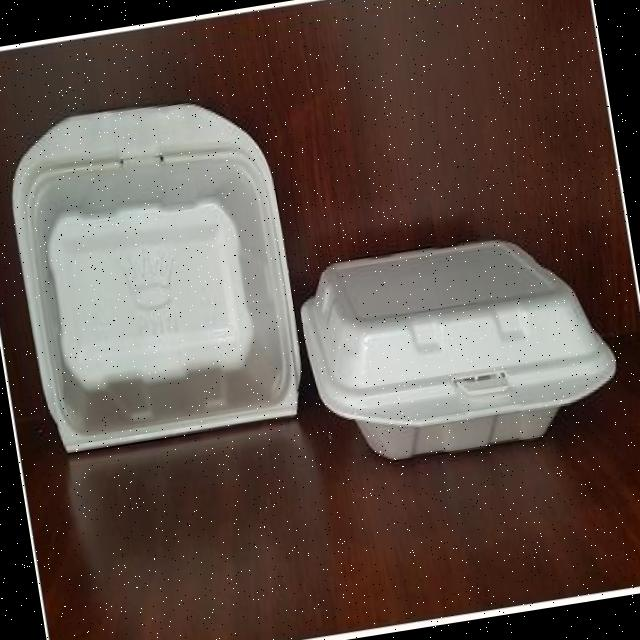styrofoam: (0, 83, 312, 456), (293, 218, 626, 476)
